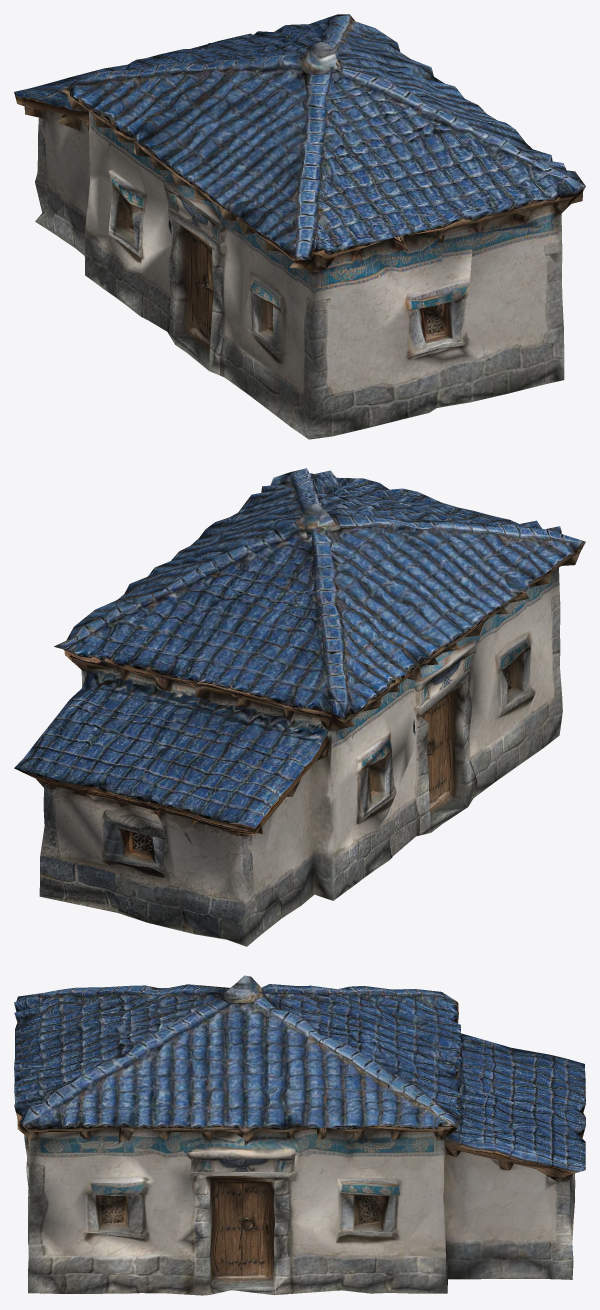
Rendered from house_generic_d.glb.
The picture shows the model from 3 angles, top to bottom: view 1: azimuth 30°, elevation 25°; view 2: azimuth 150°, elevation 25°; view 3: azimuth 270°, elevation 25°; orthographic projection. The views are drawn at different scales.
Visible parts, largest first — view 1: tripo_node_da5bad59-9eec-423f-bd8d-223ee4fc1f99; view 2: tripo_node_da5bad59-9eec-423f-bd8d-223ee4fc1f99; view 3: tripo_node_da5bad59-9eec-423f-bd8d-223ee4fc1f99.
Part boxes in pixels (bbox=[...]): tripo_node_da5bad59-9eec-423f-bd8d-223ee4fc1f99: bbox=[14, 14, 585, 439]; tripo_node_da5bad59-9eec-423f-bd8d-223ee4fc1f99: bbox=[14, 468, 585, 946]; tripo_node_da5bad59-9eec-423f-bd8d-223ee4fc1f99: bbox=[14, 975, 585, 1295].
Bounding box in the file's own units: 0.5392 × 0.4921 × 0.9774.
1 material, 1 textured.
